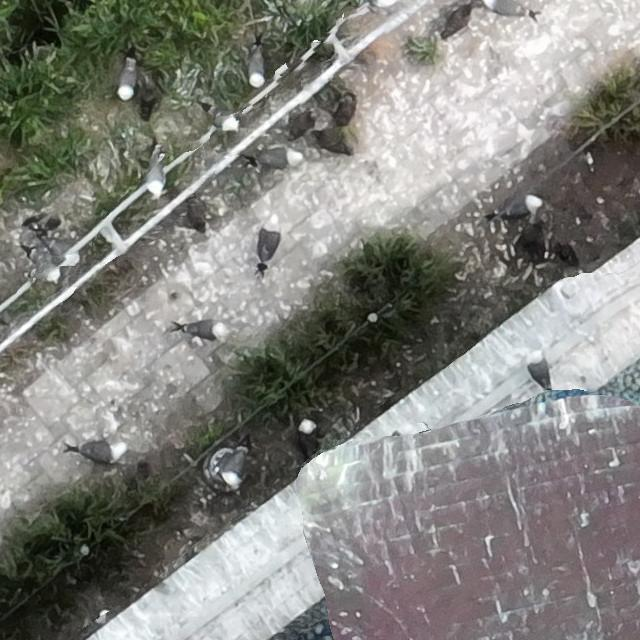umineko: (257, 213, 281, 265), (498, 194, 544, 220), (180, 318, 229, 341), (221, 444, 248, 485), (257, 147, 305, 168), (529, 348, 553, 390), (297, 418, 323, 454), (145, 155, 166, 197), (485, 0, 533, 17), (80, 443, 121, 462), (210, 109, 238, 130), (119, 64, 136, 98), (248, 51, 264, 85)
